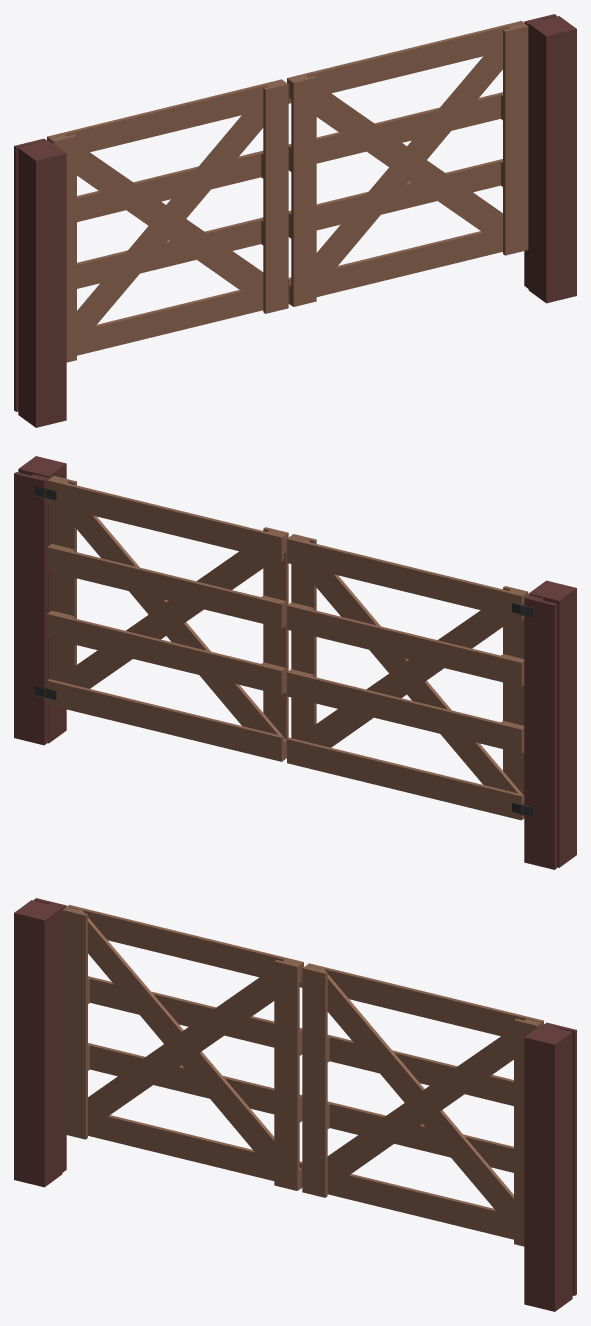
File: Fence Gate.fbx
The picture shows the model from 3 angles, top to bottom: view 1: azimuth 30°, elevation 25°; view 2: azimuth 150°, elevation 25°; view 3: azimuth 330°, elevation 25°; orthographic projection.
Parts seen in each view (by area): view 1: Fence Gate; view 2: Fence Gate; view 3: Fence Gate.
Part boxes in pixels (x1=…): Fence Gate: x1=14, y1=14, x2=576, y2=427; Fence Gate: x1=14, y1=456, x2=576, y2=869; Fence Gate: x1=14, y1=898, x2=576, y2=1311.
Size of the model in its own units: 15.84 by 212 by 100.
